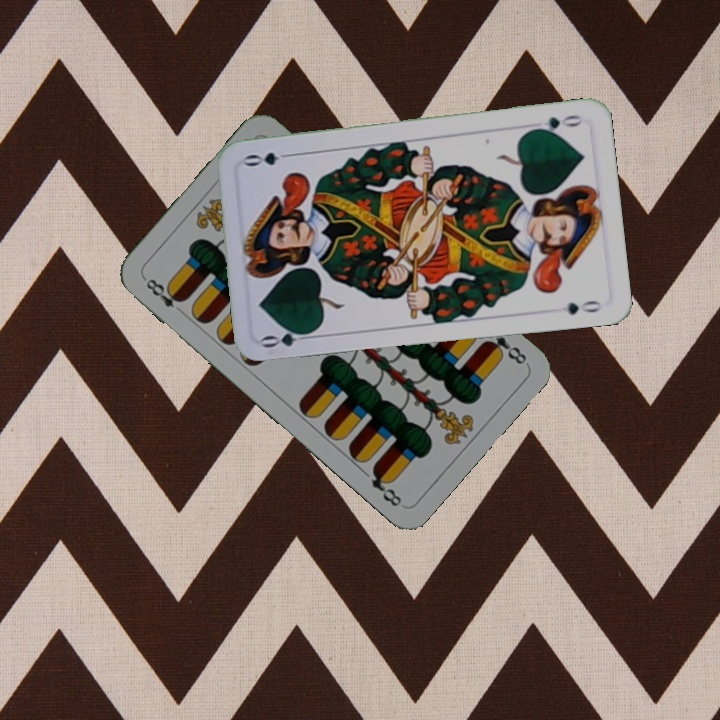E8: (140, 273, 187, 318), (480, 332, 529, 368)
GO: (258, 325, 318, 351), (527, 111, 586, 136)
